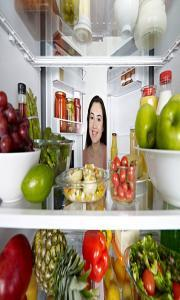Aguacate: (20, 160, 55, 204)
Esparrago: (24, 86, 42, 140)
Manzana: (155, 99, 180, 153), (134, 102, 158, 150)
Pimiento: (80, 228, 110, 285)
Pina: (30, 228, 99, 300)
Salsa de tomate: (55, 90, 68, 133)
Tomate: (110, 170, 120, 189), (120, 168, 127, 184), (120, 154, 128, 167), (113, 156, 121, 167)
